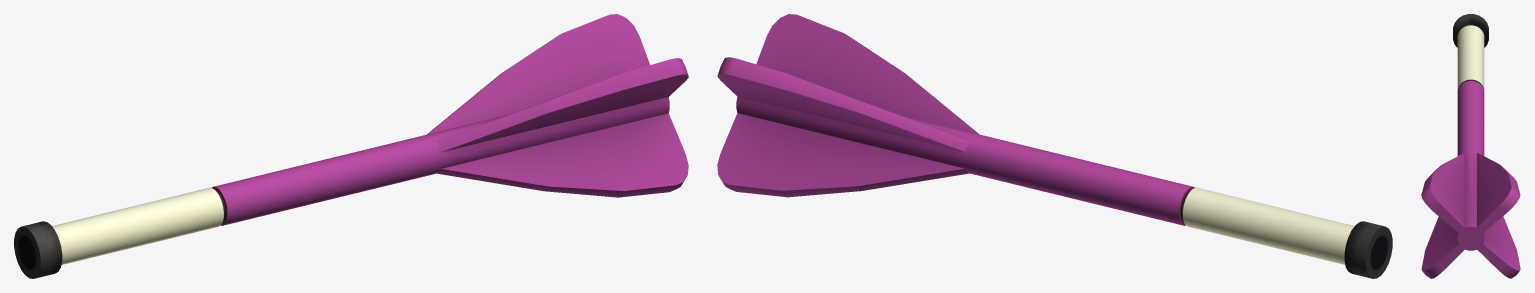
Rendered from CommunityRoomB_DartPink.fbx.
3 renders of one model, left to right at view 1: azimuth 30°, elevation 25°; view 2: azimuth 150°, elevation 25°; view 3: azimuth 270°, elevation 25°, orthographic. The views are drawn at different scales.
Parts seen in each view (by area): view 1: CommunityRoomB_DartPink; view 2: CommunityRoomB_DartPink; view 3: CommunityRoomB_DartPink.
Boxes of the visible parts, x1,y1,x2,y2 form: CommunityRoomB_DartPink: (14, 14, 688, 278); CommunityRoomB_DartPink: (717, 14, 1392, 278); CommunityRoomB_DartPink: (1421, 14, 1520, 278).
Bounding box in the file's own units: 18 × 3.63 × 3.62.
